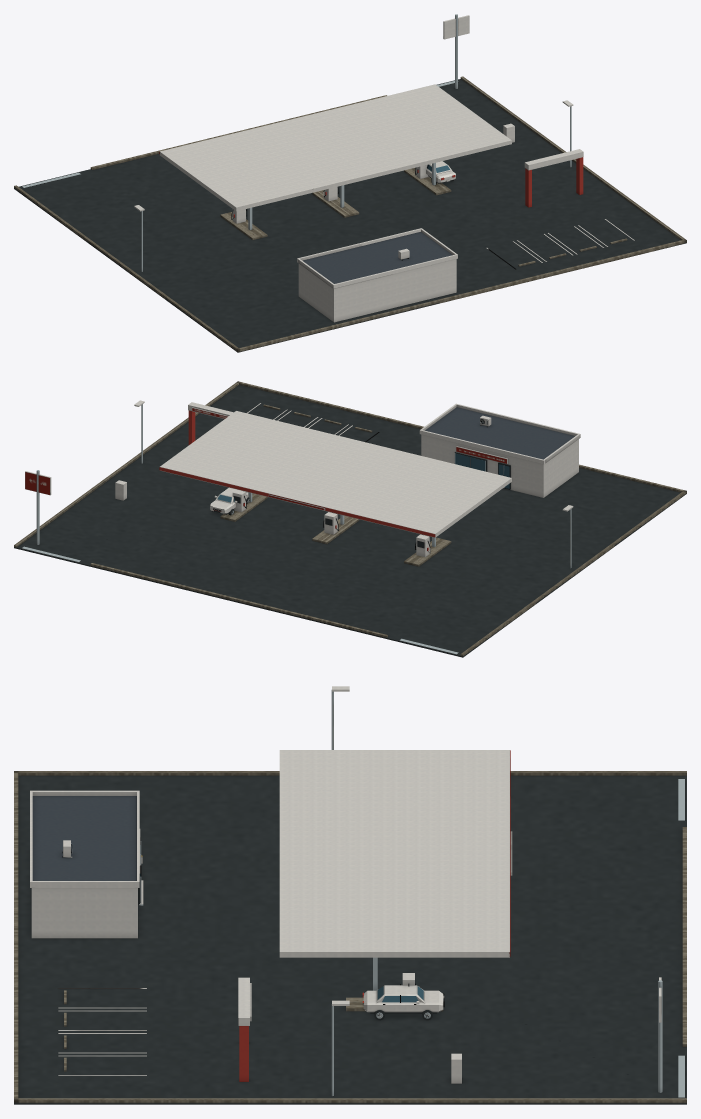
File: fuel_roadside_001.obj
3 renders of one model, top to bottom at view 1: azimuth 30°, elevation 25°; view 2: azimuth 150°, elevation 25°; view 3: azimuth 270°, elevation 25°, orthographic. The views are drawn at different scales.
Visible parts, largest first — view 1: fuel_roadside_001; view 2: fuel_roadside_001; view 3: fuel_roadside_001.
Boxes of the visible parts, x1,y1,x2,y2 form: fuel_roadside_001: (14,14,686,352); fuel_roadside_001: (14,381,686,657); fuel_roadside_001: (14,686,686,1104).
Size of the model in its own units: 44 by 7 by 38.
Materials: 1 (1 with a texture image).
